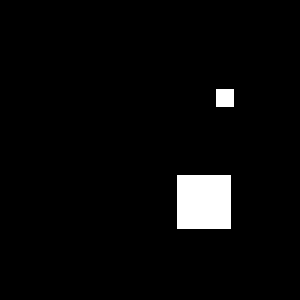circle: (177, 175, 231, 229), (216, 89, 234, 107)
